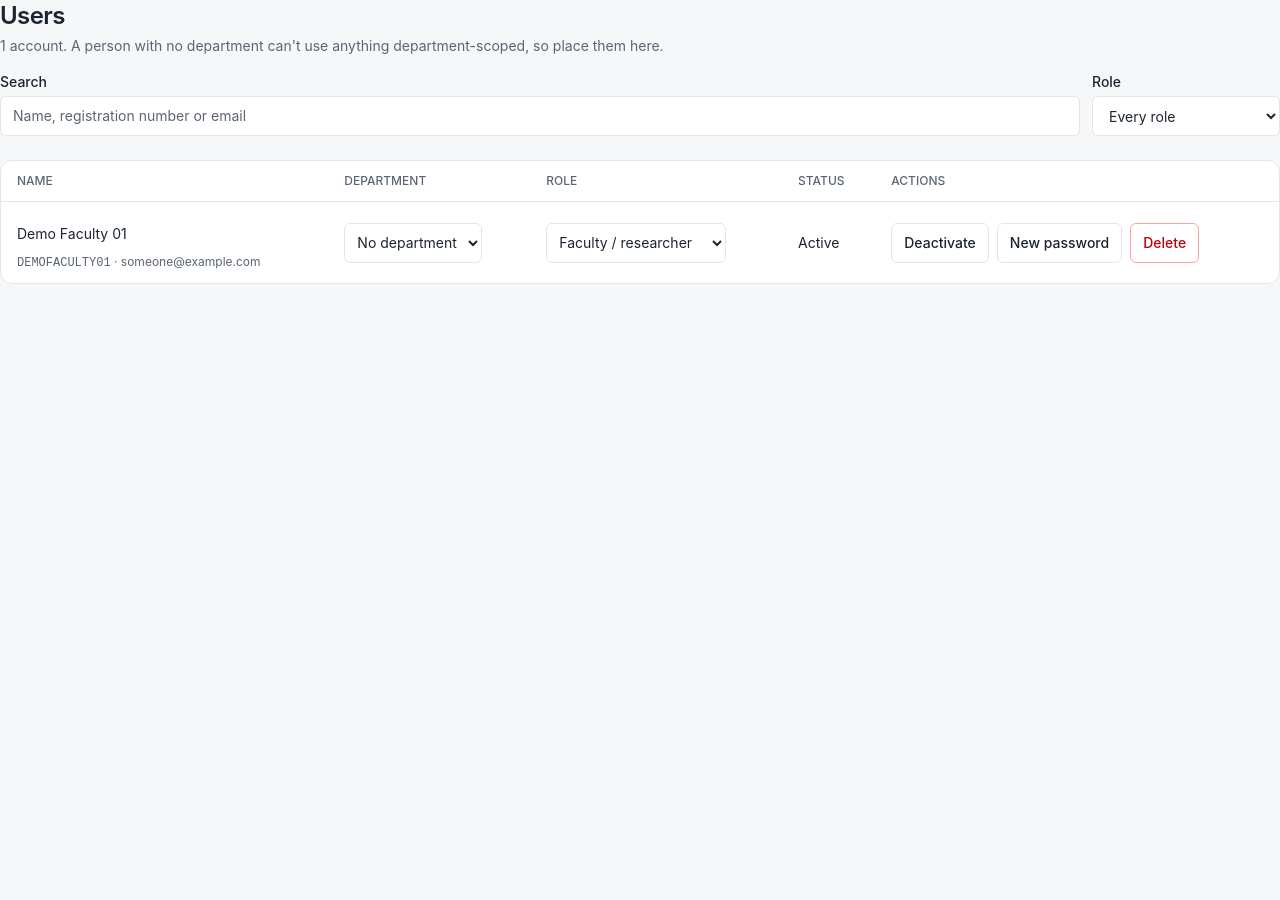
it: AdminUsersPage › shows a new temporary password once, after confirming
Click the button "New password". click: (1060, 242)
box: [997,222,1122,262]
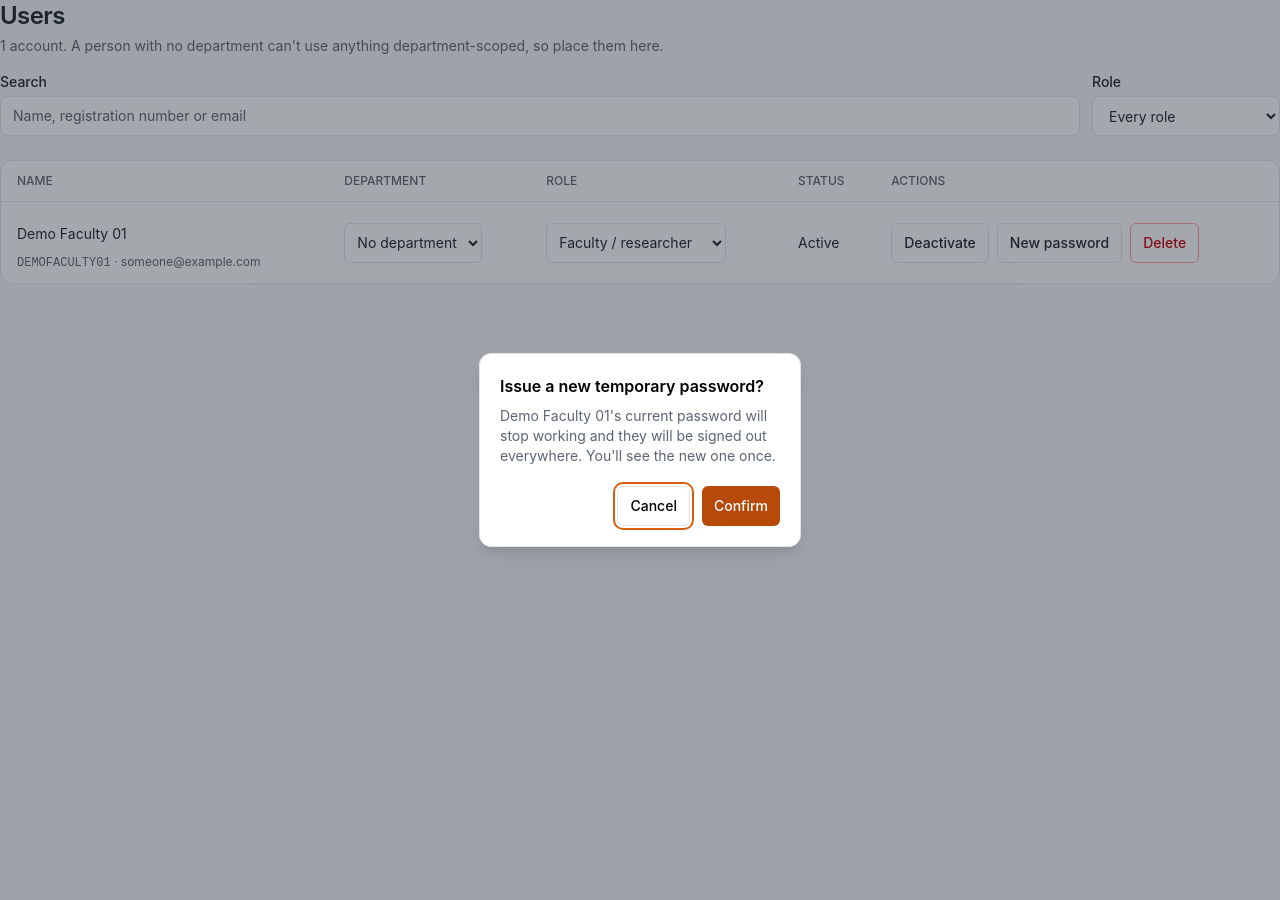
Click the button "Confirm". click: (741, 506)
box: [702,486,780,526]
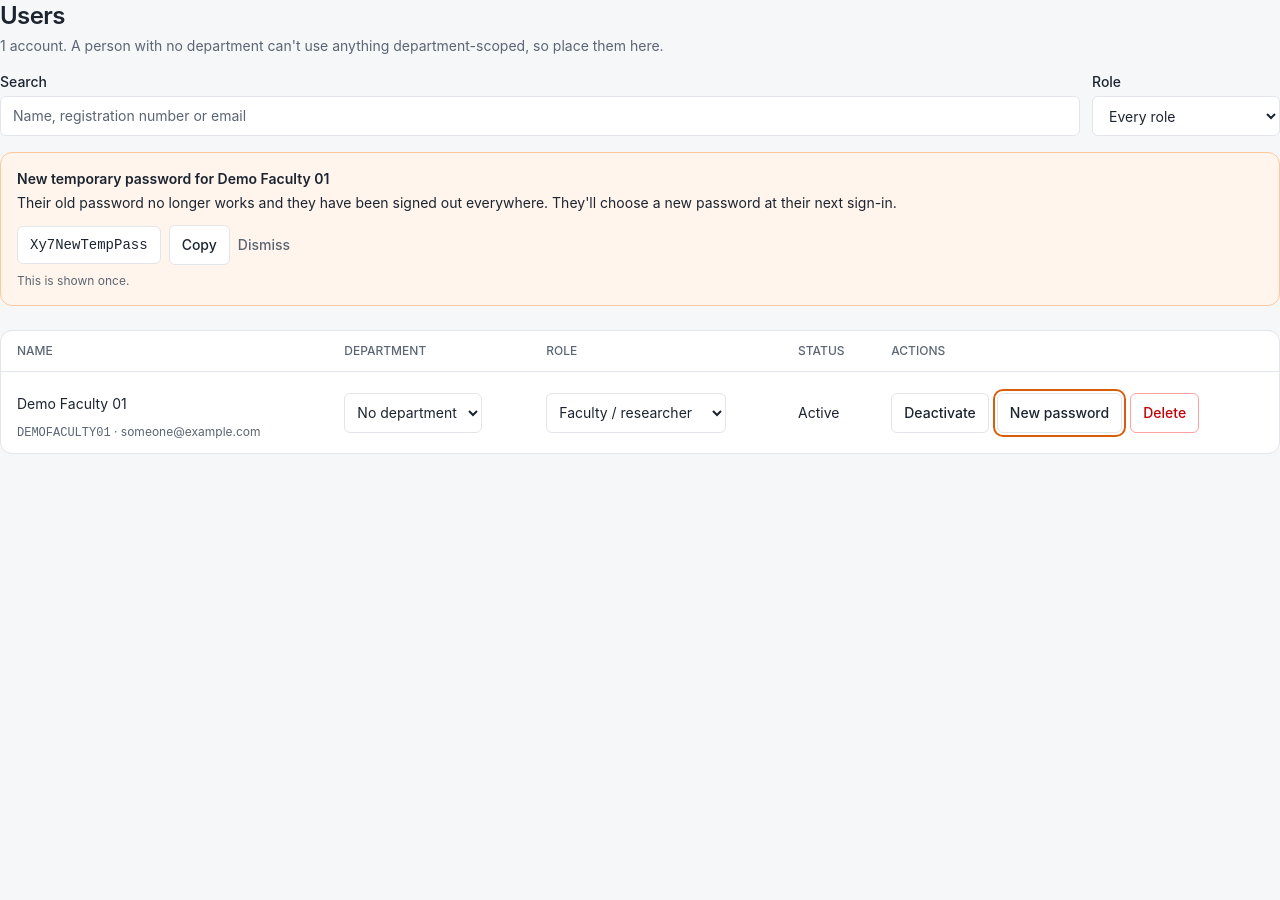
Check: the text "Xy7NewTempPass" is shown, box [17,226,161,264]
